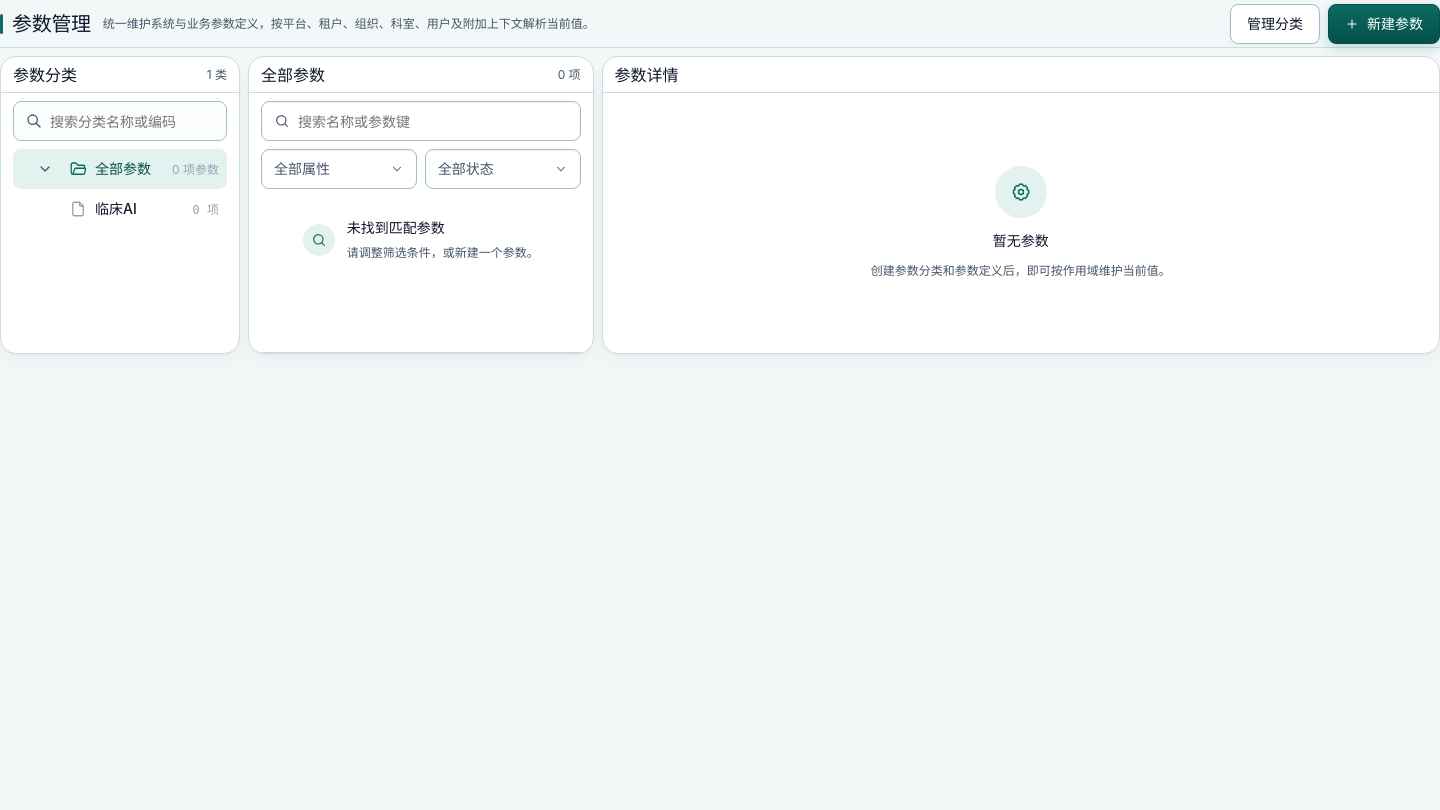
Test: ParameterManagement category write facts › keeps a create draft when the response points to an existing category
Click the button "管理分类" at (1275, 24), box [1230, 4, 1320, 44]
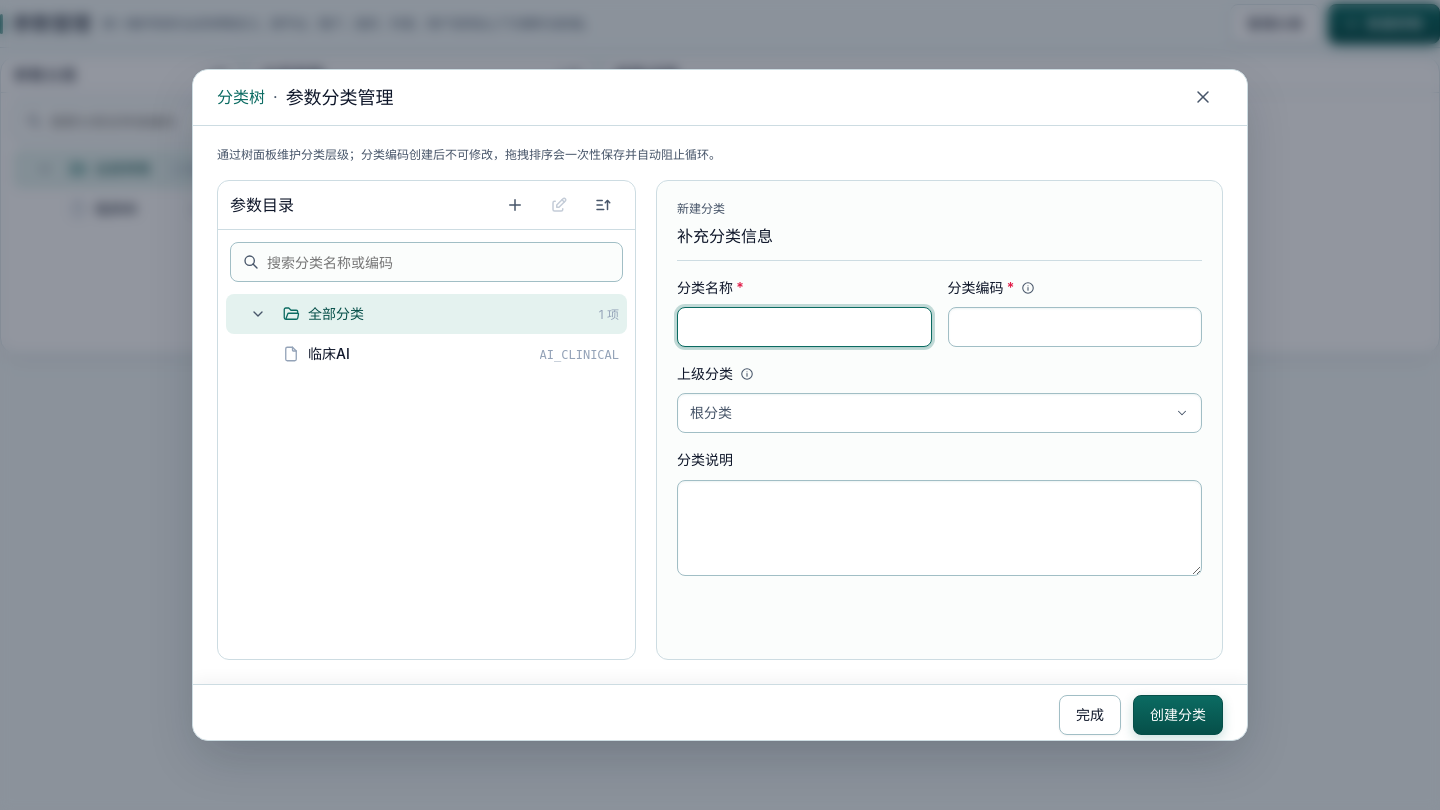
Type "新分类" into the field labelled "分类名称*" at (804, 327), box [677, 307, 932, 347]
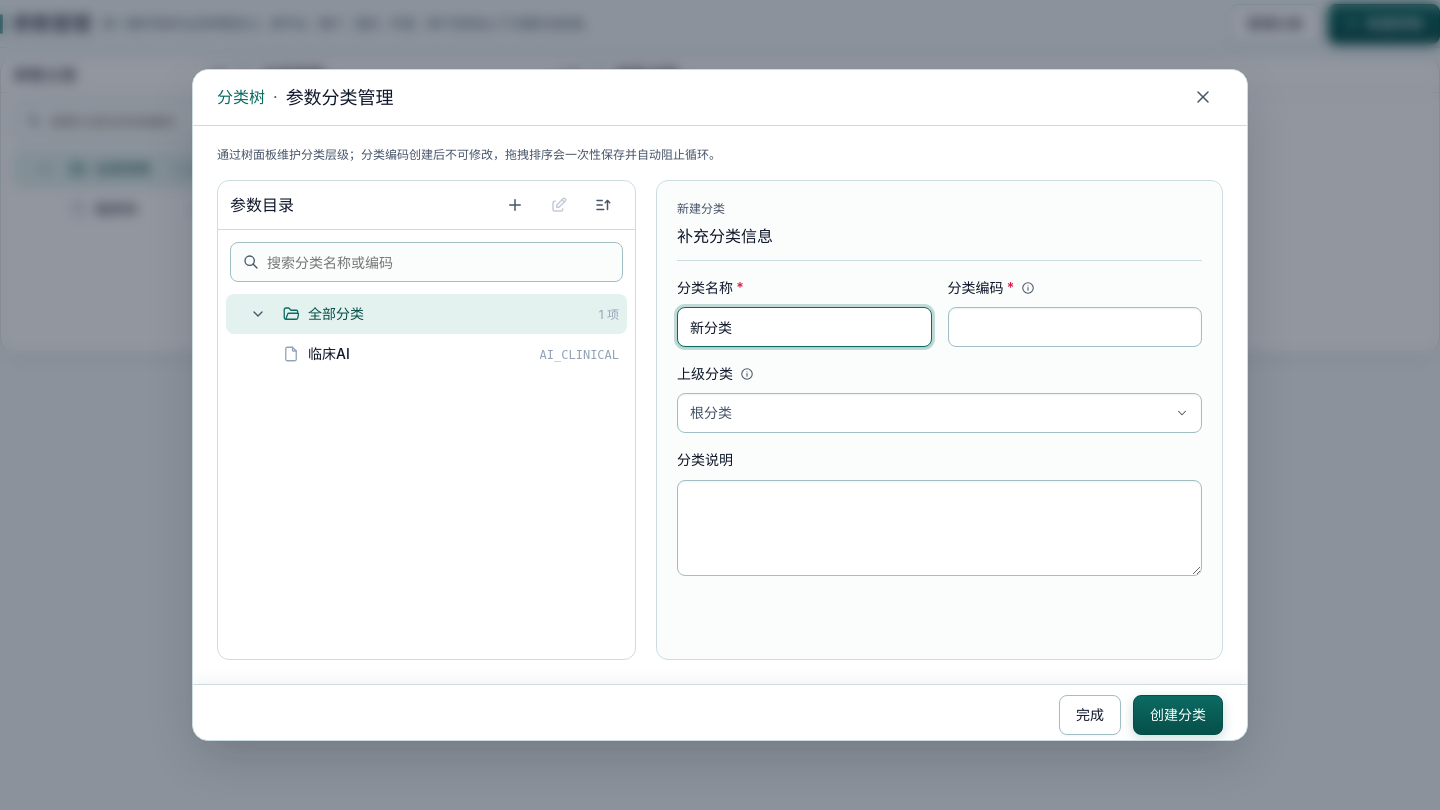
Type "NEW_CATEGORY" into the field labelled "分类编码*" at (1075, 327), box [948, 307, 1202, 347]
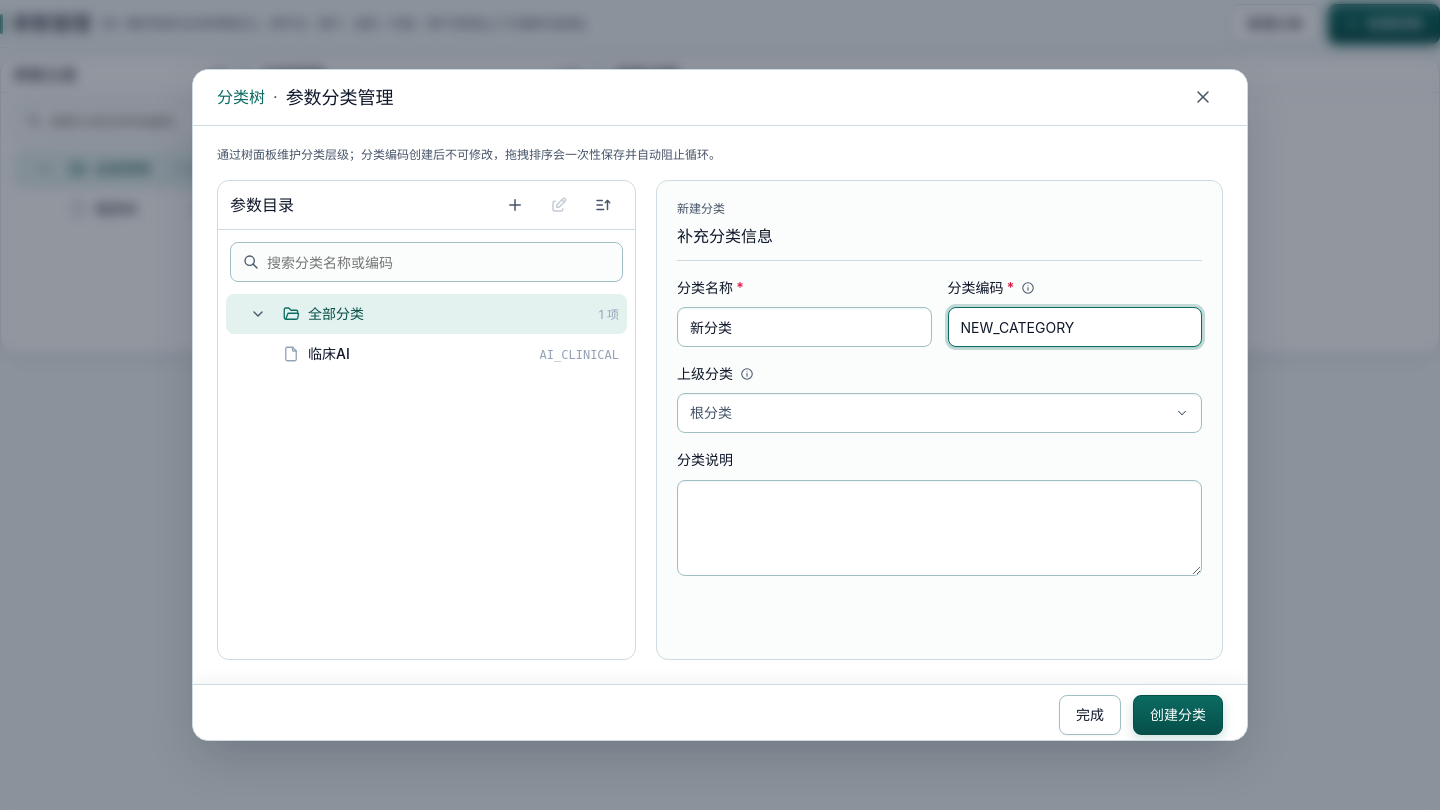
Click the button "创建分类" at (1178, 715), box [1133, 695, 1223, 735]
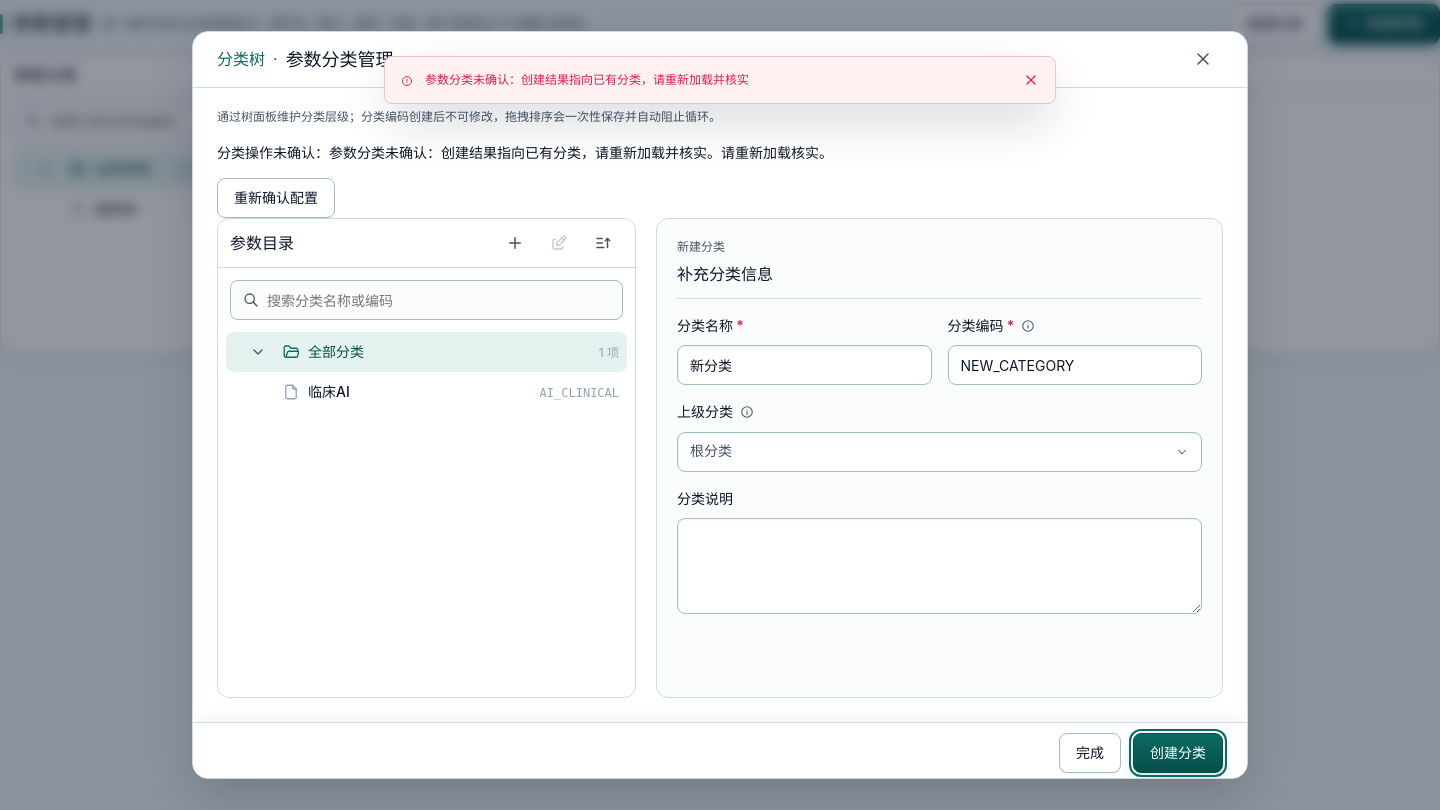
Now the message "分类操作未确认：参数分类未确认：创建结果指向已有分类，请重新加载并核实。请重新加载核实。" is shown, box [217, 144, 833, 161]
